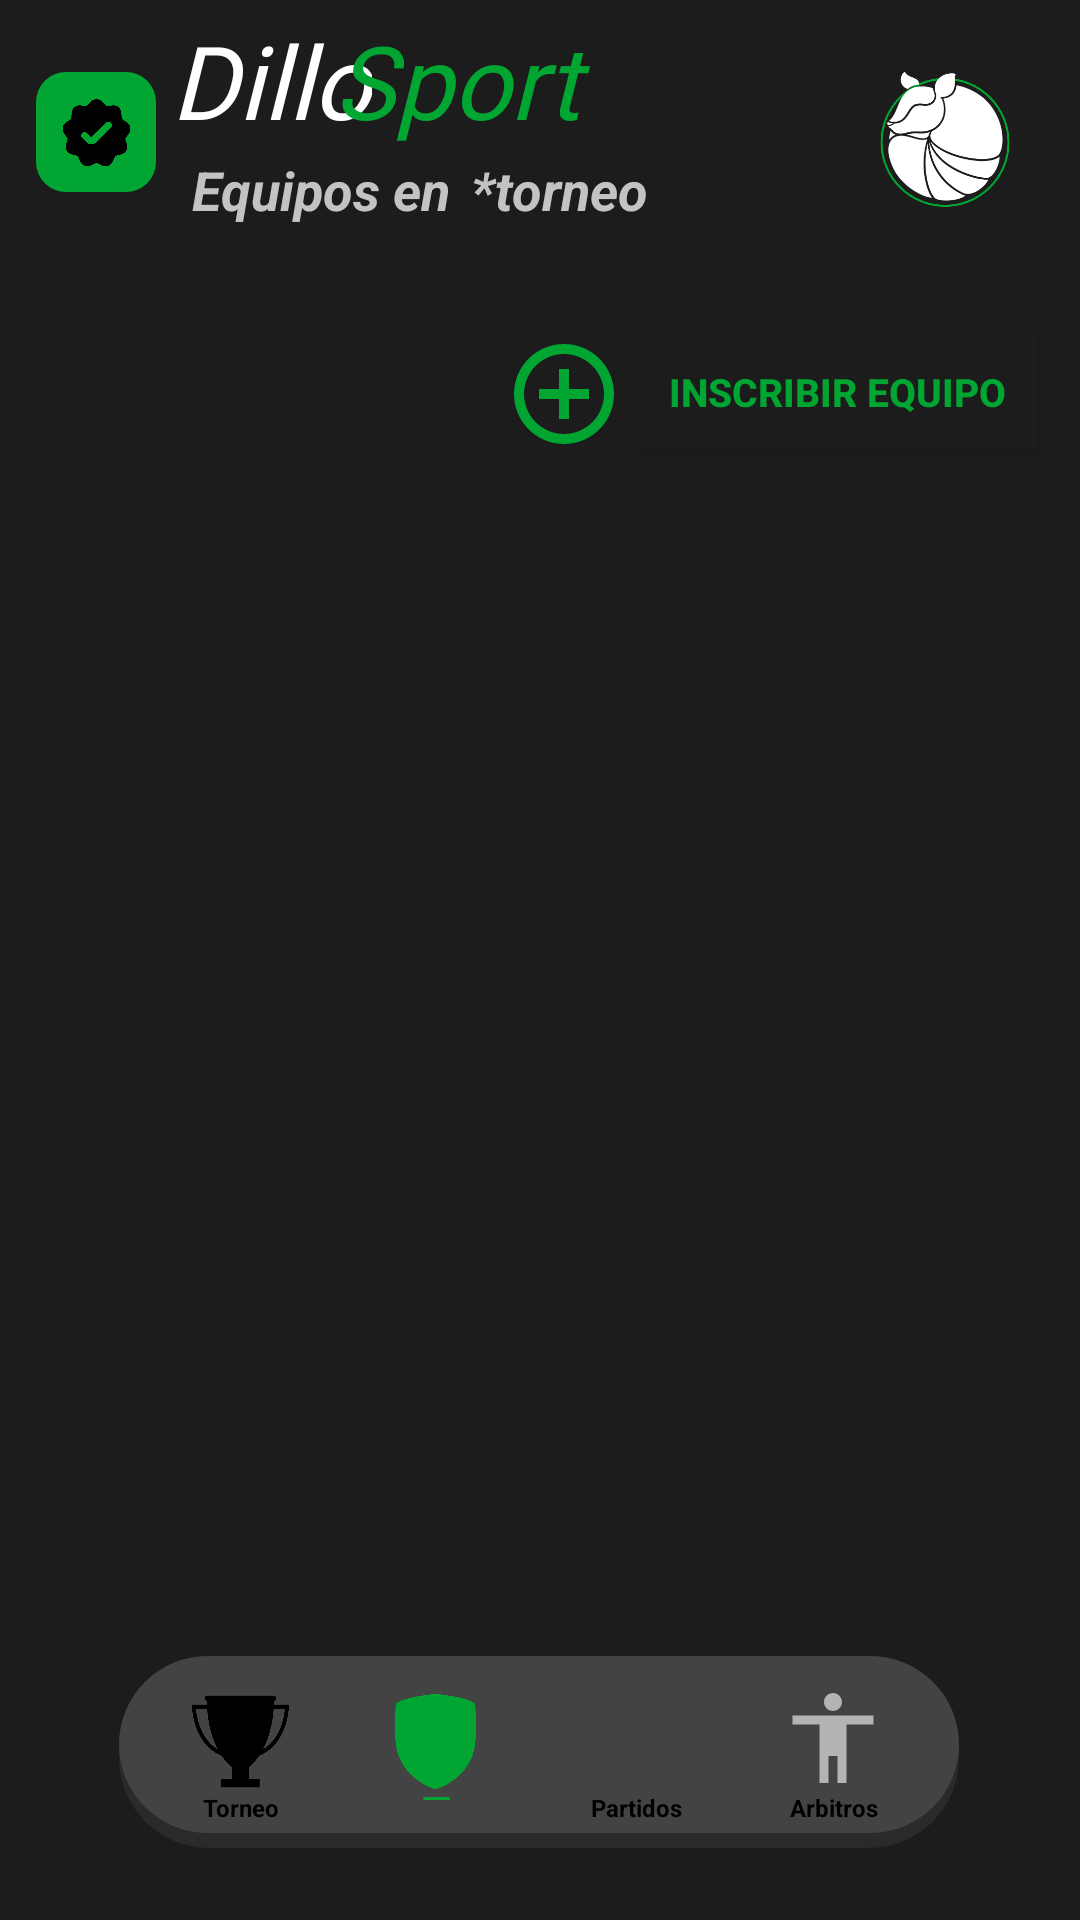

Named icons in this screenshot (1080 × 1920) and their centers, (x=x, y=y):
crear: (x=564, y=394)
dillo: (x=945, y=139)
equipo: (x=435, y=1741)
